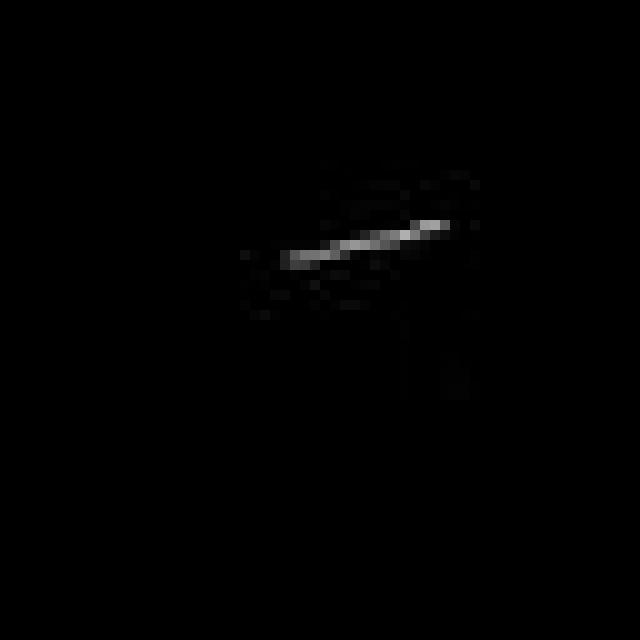1 -one-: (280, 212, 453, 284)
